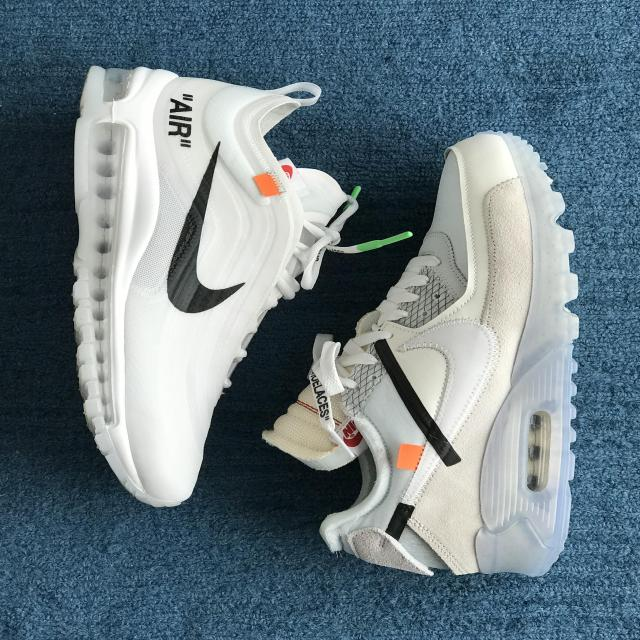shoe: (33, 47, 380, 525), (246, 119, 596, 591)
